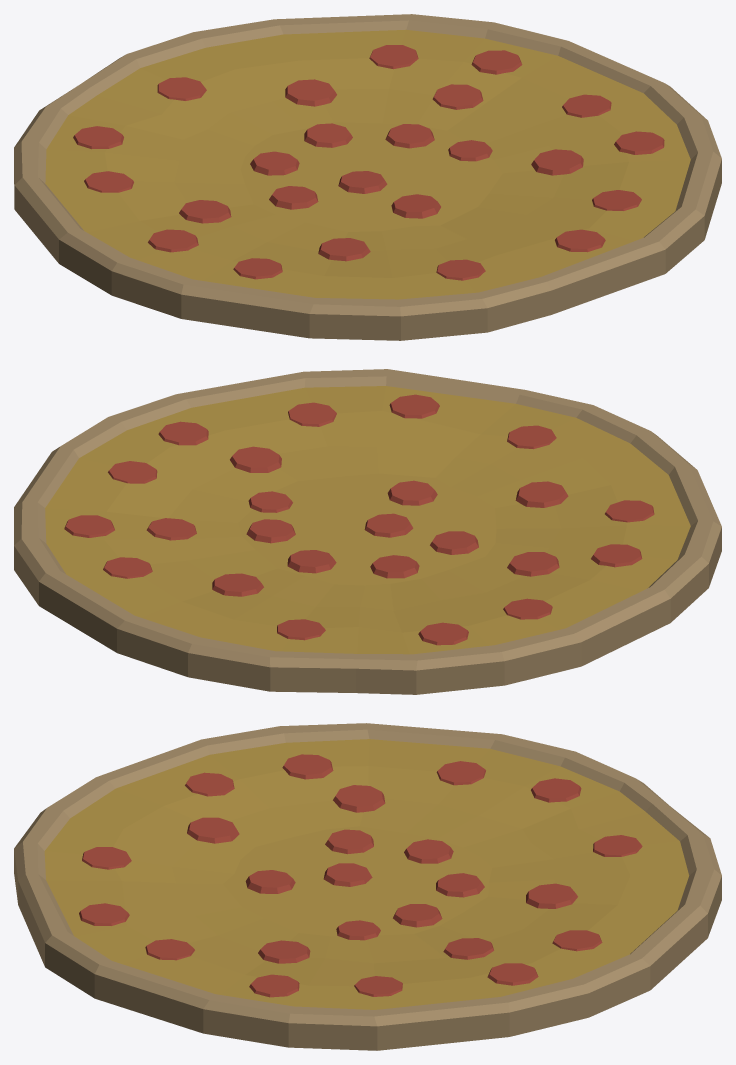
The model's file is quaternius-ultimate-food-pizza.glb.
3 views of the same model, one above another, from view 1: azimuth 30°, elevation 25°; view 2: azimuth 150°, elevation 25°; view 3: azimuth 270°, elevation 25° (orthographic).
Visible parts, largest first — view 1: Pizza; view 2: Pizza; view 3: Pizza.
Part boxes in pixels (left/top/right/bottom): Pizza: left=14, top=14, right=721, bottom=340; Pizza: left=14, top=369, right=721, bottom=694; Pizza: left=14, top=723, right=721, bottom=1050.
Bounding box in the file's own units: 3.37 × 0.1609 × 3.36.
